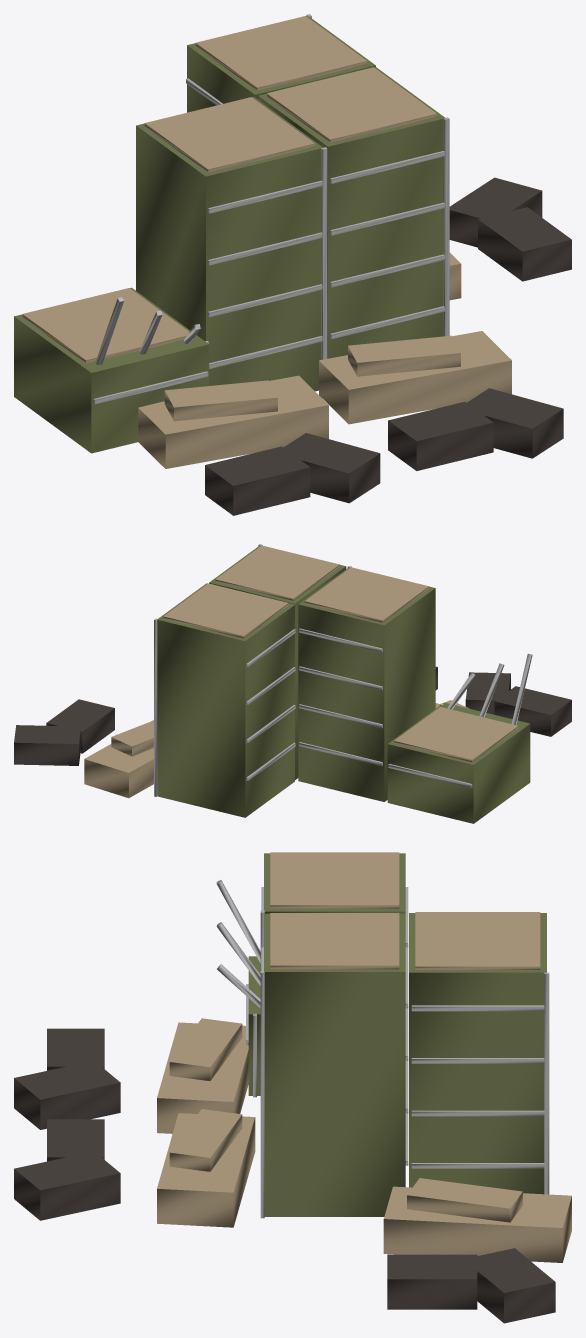
The model's file is SM_HescoRemateEspejo_v2_Escalonado_e1_Danado_LOD0.fbx.
3 renders of one model, top to bottom at view 1: azimuth 30°, elevation 25°; view 2: azimuth 150°, elevation 25°; view 3: azimuth 270°, elevation 25°, orthographic. The views are drawn at different scales.
Parts seen in each view (by area): view 1: SM_hesco_piezas_v29_LOD0; view 2: SM_hesco_piezas_v29_LOD0; view 3: SM_hesco_piezas_v29_LOD0.
Part boxes in pixels (x1=…): SM_hesco_piezas_v29_LOD0: x1=14, y1=14, x2=571, y2=515; SM_hesco_piezas_v29_LOD0: x1=14, y1=544, x2=571, y2=823; SM_hesco_piezas_v29_LOD0: x1=14, y1=852, x2=571, y2=1323.
Size of the model in its own units: 5.25 by 2.13 by 4.33.
